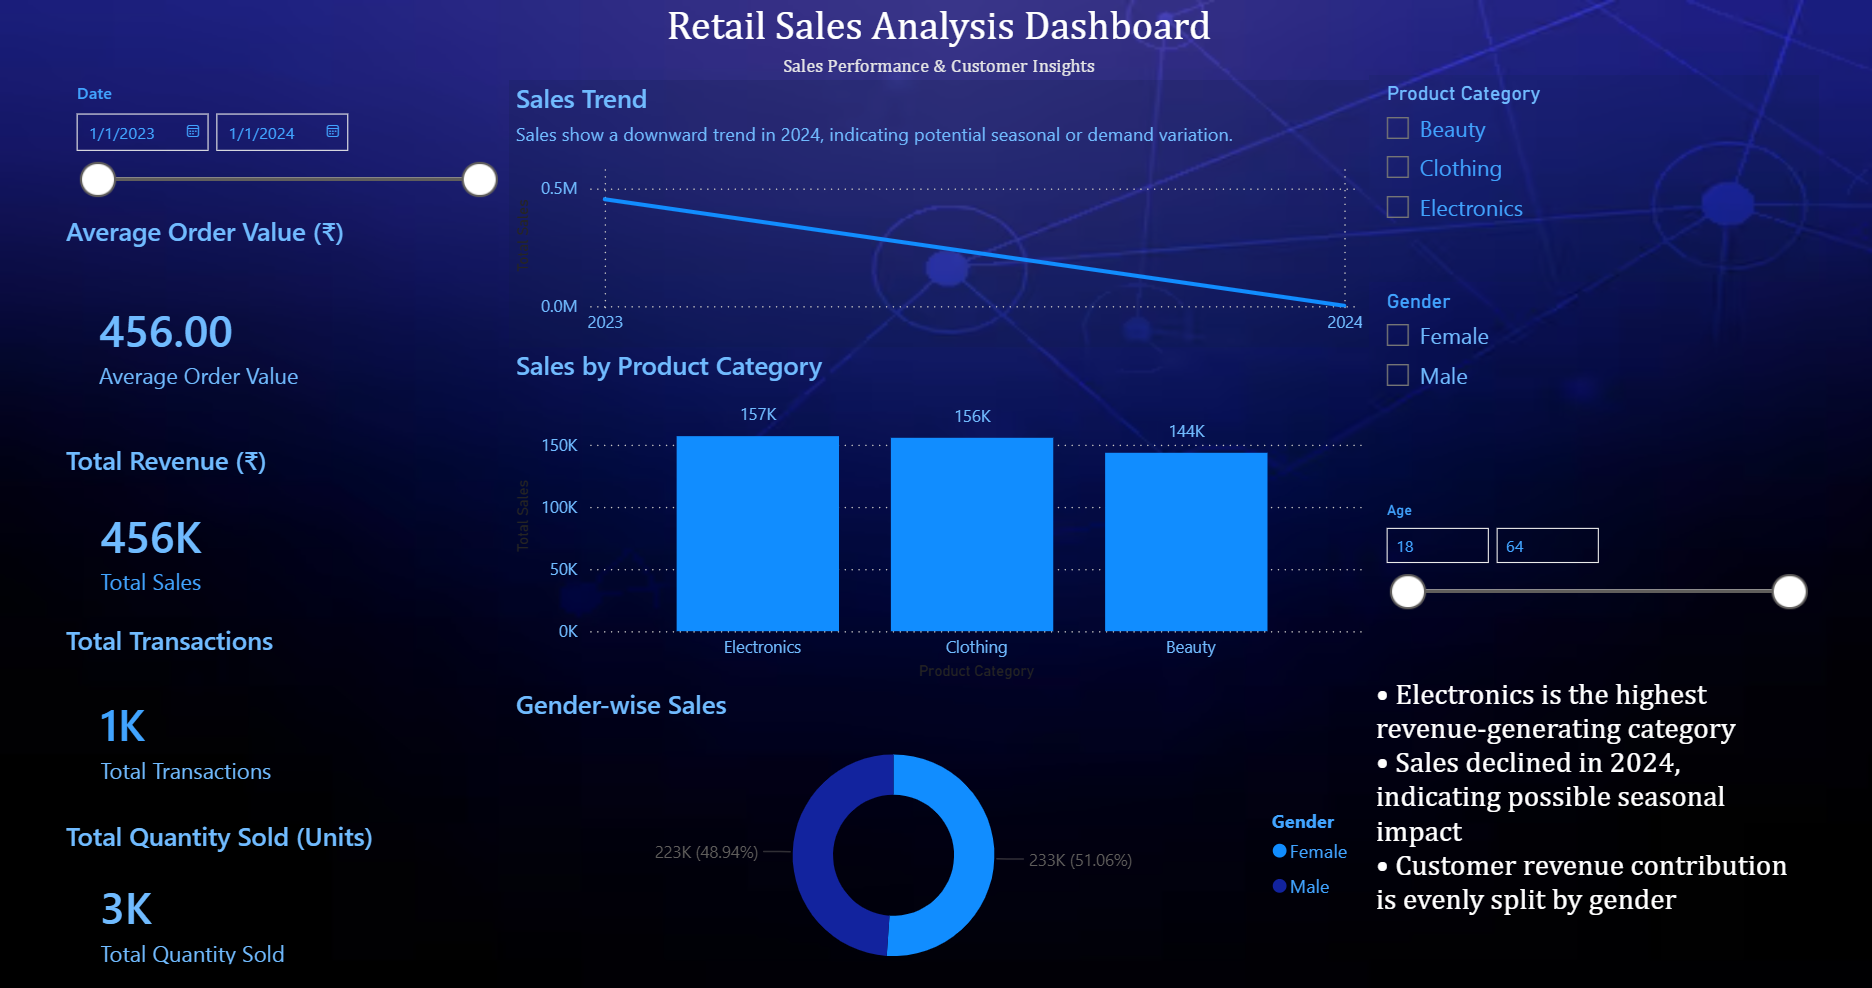

The dashboard page shown, as its layout file describes it:
{"tool":"powerbi","page":{"name":"Page 1","canvas":[1280,720],"ordinal":0},"visuals":[{"type":"textbox","title":"Retail Sales Analysis Dashboard","box":[0,0,1280,58.5],"z":0},{"type":"slicer","fields":{"Values":["retail_sales_dataset.Date"]},"box":[0,54.7,327.2,100.8],"z":1000},{"type":"cardVisual","title":"Total Quantity Sold (Units)","fields":{"Data":["retail_sales_dataset.Total Quantity Sold"]},"box":[0,595.9,327.2,124.4],"z":2000},{"type":"cardVisual","title":"Total Revenue (₹)","fields":{"Data":["retail_sales_dataset.Total Sales"]},"box":[0,322.2,327.2,130.6],"z":3000},{"type":"cardVisual","title":"Total Transactions","fields":{"Data":["retail_sales_dataset.Total Transactions"]},"box":[0,452.8,327.2,143.1],"z":4000},{"type":"lineChart","title":"Sales Trend","fields":{"Category":["retail_sales_dataset.Date.Variation.Date Hierarchy.Year","retail_sales_dataset.Date.Variation.Date Hierarchy.Month"],"Y":["retail_sales_dataset.Total Sales"]},"box":[327.2,58.5,625.7,194.1],"z":5000},{"type":"columnChart","title":"Sales by Product Category","fields":{"Y":["retail_sales_dataset.Total Sales"],"Category":["retail_sales_dataset.Product Category"]},"box":[327.2,252.5,625.7,246.3],"z":6000},{"type":"donutChart","title":"Gender-wise Sales","fields":{"Category":["retail_sales_dataset.Gender"],"Y":["retail_sales_dataset.Total Sales"]},"box":[327.2,498.8,625.7,221.4],"z":7000},{"type":"slicer","fields":{"Values":["retail_sales_dataset.Product Category"]},"box":[952.9,54.7,327.2,150.5],"z":8000},{"type":"slicer","fields":{"Values":["retail_sales_dataset.Gender"]},"box":[952.9,205.3,327.2,154.3],"z":9000},{"type":"slicer","fields":{"Values":["retail_sales_dataset.Age"]},"box":[952.9,359.5,327.2,112],"z":10000},{"type":"cardVisual","title":"Average Order Value (₹)","fields":{"Data":["retail_sales_dataset.Average Order Value"]},"box":[0,155.5,327.2,166.7],"z":11000},{"type":"textbox","box":[952.9,487.6,327.2,232.6],"z":12000}]}

Visuals, with their boxes on the page's 1280x720 design canvas (x1, y1, x2, y2). These are canvas units, not pixel positions in the 1872x988 screenshot, which may show the page scaled, cropped or inside an application window:
"Retail Sales Analysis Dashboard" textbox: bbox(0, 0, 1280, 58)
slicer - retail_sales_dataset.Date: bbox(0, 55, 327, 156)
"Total Quantity Sold (Units)" cardVisual: bbox(0, 596, 327, 720)
"Total Revenue (₹)" cardVisual: bbox(0, 322, 327, 453)
"Total Transactions" cardVisual: bbox(0, 453, 327, 596)
"Sales Trend" lineChart: bbox(327, 58, 953, 253)
"Sales by Product Category" columnChart: bbox(327, 252, 953, 499)
"Gender-wise Sales" donutChart: bbox(327, 499, 953, 720)
slicer - retail_sales_dataset.Product Category: bbox(953, 55, 1280, 205)
slicer - retail_sales_dataset.Gender: bbox(953, 205, 1280, 360)
slicer - retail_sales_dataset.Age: bbox(953, 360, 1280, 472)
"Average Order Value (₹)" cardVisual: bbox(0, 156, 327, 322)
textbox: bbox(953, 488, 1280, 720)
